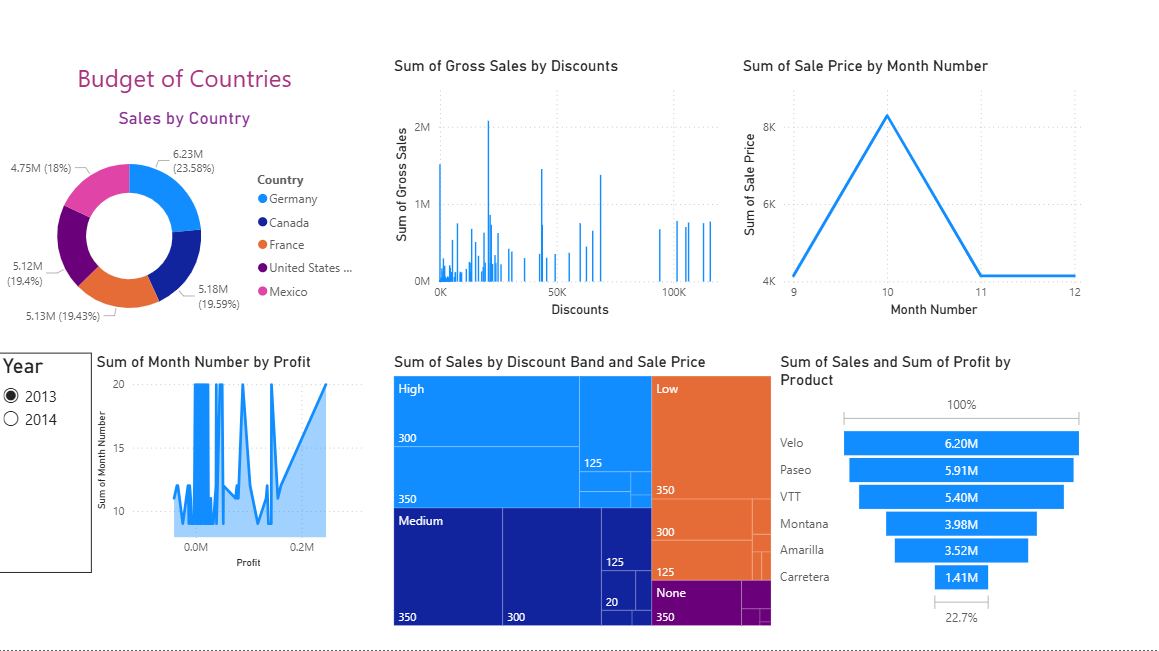

The dashboard page shown, as its layout file describes it:
{"tool":"powerbi","page":{"name":"Page 1","canvas":[1280,720],"ordinal":0},"visuals":[{"type":"textbox","box":[0,68.6,411.7,46.7],"z":0},{"type":"donutChart","title":"Sales by Country","fields":{"Category":["financials.Country"],"Y":["Sum(financials.Sales)"]},"box":[0,124.9,411.7,258],"z":1000},{"type":"listSlicer","fields":{"Values":["financials.Year"]},"box":[0,393.8,104.3,241.5],"z":2000},{"type":"clusteredColumnChart","fields":{"Category":["financials.Discounts"],"Y":["Sum(financials.Gross Sales)"]},"box":[430.9,68.6,382.8,290.9],"z":3000},{"type":"lineChart","fields":{"Category":["financials.Month Number"],"Y":["Sum(financials.Sale Price)"]},"box":[813.7,68.6,384.2,290.9],"z":4000},{"type":"stackedAreaChart","fields":{"Category":["financials.Profit"],"Y":["Sum(financials.Month Number)"]},"box":[104.3,393.8,307.4,241.5],"z":5000},{"type":"treemap","fields":{"Group":["financials.Discount Band"],"Details":["financials.Sale Price"],"Values":["Sum(financials.Sales)"]},"box":[430.9,393.8,424,304.6],"z":6000},{"type":"funnel","fields":{"Category":["financials.Product"],"Y":["Sum(financials.Sales)"]},"box":[854.9,393.8,343.1,304.6],"z":7000}]}

Visuals, with their boxes in screenshot pixels (x1, y1, x2, y2), scaled from the page's 1280x720 canvas onto the 1159x651 screenshot:
textbox: 0/62/373/104
"Sales by Country" donutChart: 0/113/373/346
listSlicer - financials.Year: 0/356/94/574
clusteredColumnChart - financials.Discounts x Sum(financials.Gross Sales): 390/62/737/325
lineChart - financials.Month Number x Sum(financials.Sale Price): 737/62/1085/325
stackedAreaChart - financials.Profit x Sum(financials.Month Number): 94/356/373/574
treemap - financials.Discount Band x financials.Sale Price: 390/356/774/631
funnel - financials.Product x Sum(financials.Sales): 774/356/1085/631
